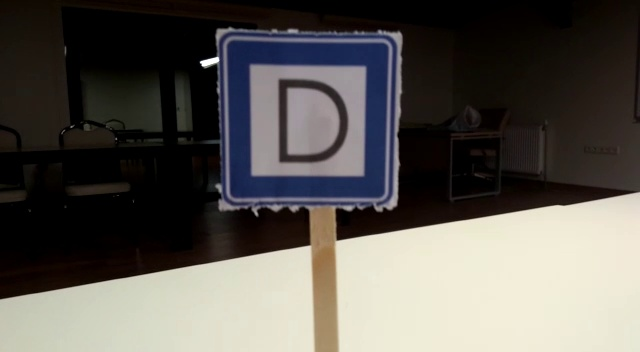durak: (220, 33, 397, 207)
